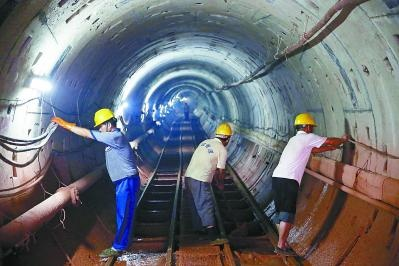yellow: (92, 108, 117, 134), (292, 111, 317, 136), (213, 123, 233, 146)
